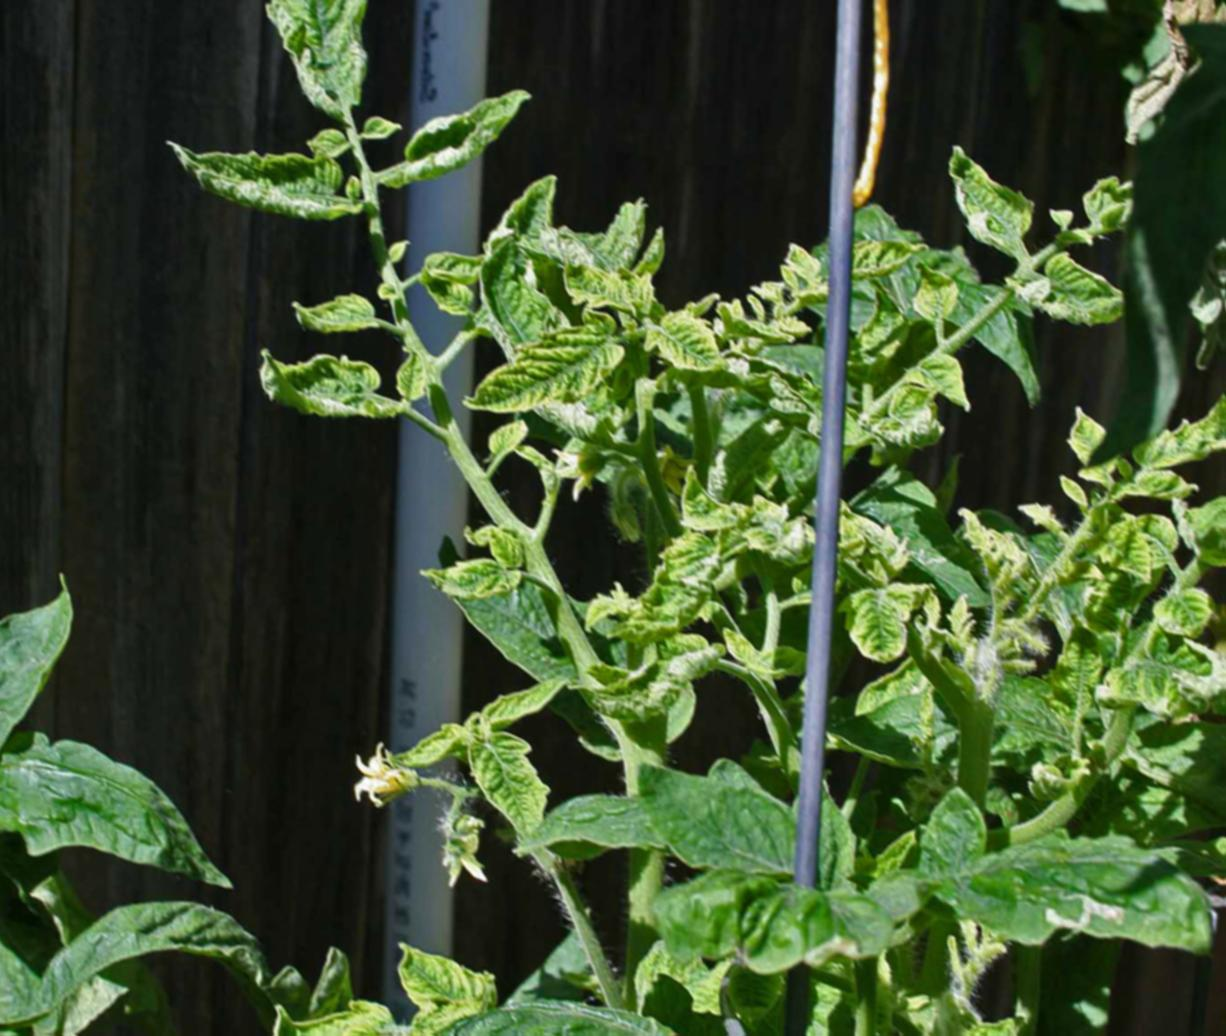Tomato leaf yellow virus: (909, 800, 1226, 966), (621, 752, 855, 896), (615, 473, 772, 644), (143, 131, 376, 241), (224, 343, 422, 442), (470, 318, 645, 427), (441, 711, 572, 843), (271, 0, 385, 118), (938, 141, 1036, 261), (1128, 367, 1226, 487), (1091, 637, 1226, 720), (399, 530, 531, 608), (633, 299, 742, 390), (549, 247, 667, 325), (841, 578, 930, 675), (1082, 505, 1185, 583), (1033, 256, 1131, 336), (276, 283, 389, 343), (1141, 588, 1218, 649)
